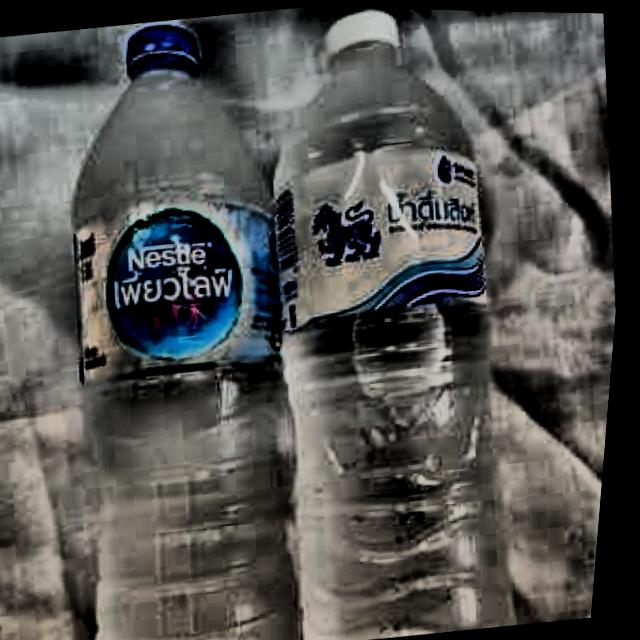Bottles: (212, 4, 582, 640), (19, 3, 367, 640)
